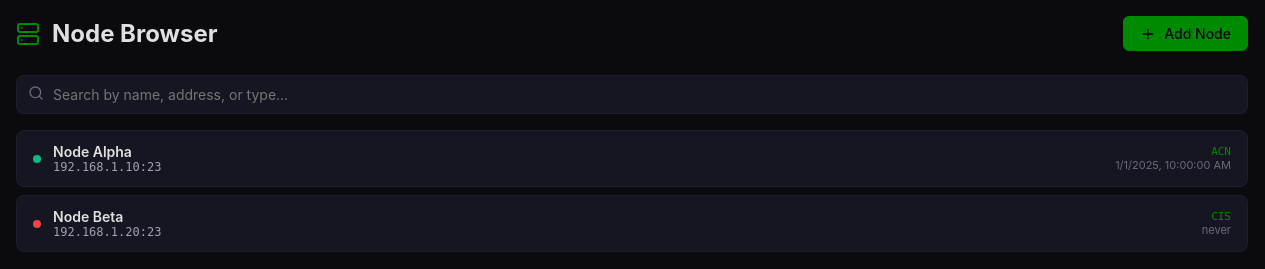
NodeBrowser › filters nodes by search text
This screenshot has width=1265, height=269.
Expected: the text "Node Alpha" is shown, [53,143,132,160]
Type "Alpha" into the field with placeholder "Search by name, address, or type...". click: (632, 94)
box: [16,75,1248,114]
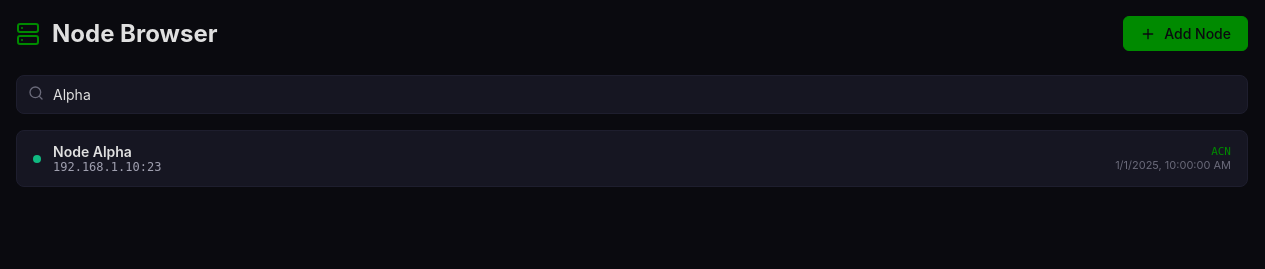
Expected: the text "Node Alpha" is shown, [53,143,132,160]
Result: the text "Node Beta" is gone
